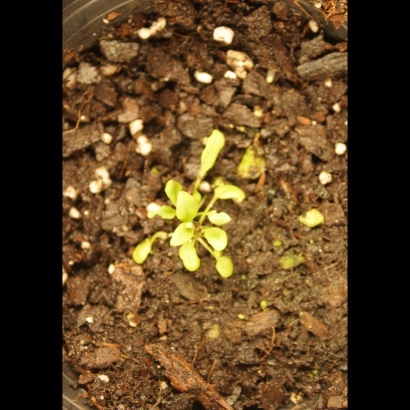leaf: (194, 128, 229, 178), (202, 224, 234, 252), (213, 183, 249, 207), (178, 240, 202, 275), (170, 221, 197, 252), (177, 188, 200, 223), (132, 236, 158, 265), (213, 256, 237, 281), (209, 204, 235, 227), (152, 206, 175, 229), (162, 180, 185, 203)
